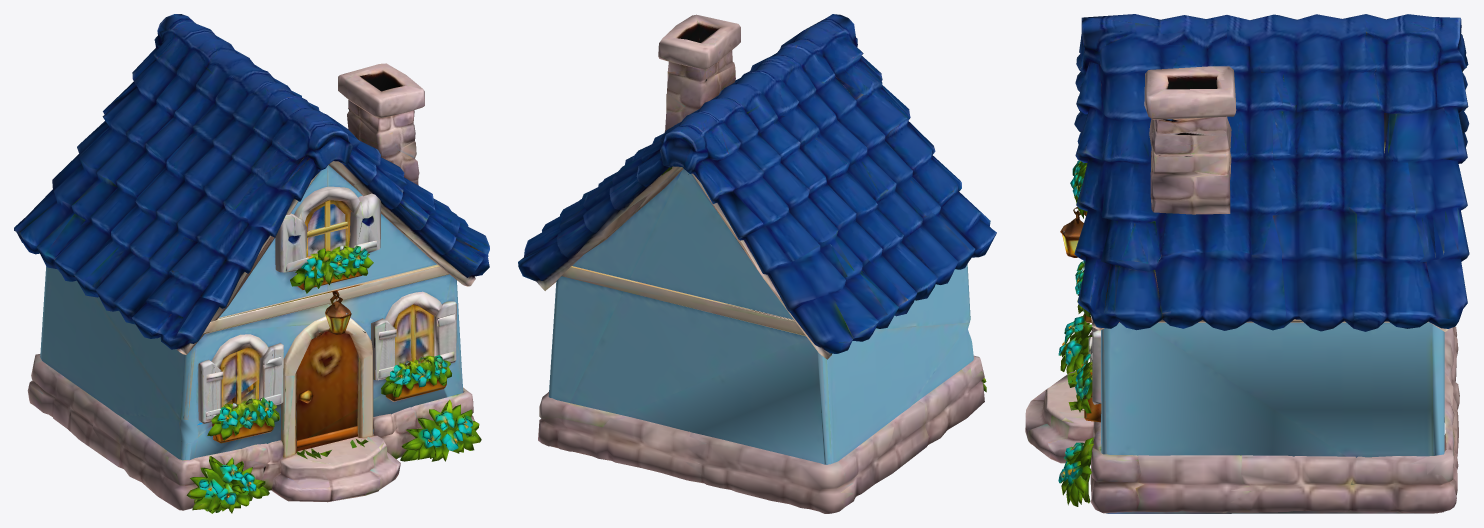
File: cottage_roof.glb
3 renders of one model, left to right at view 1: azimuth 30°, elevation 25°; view 2: azimuth 150°, elevation 25°; view 3: azimuth 270°, elevation 25°, orthographic. The views are drawn at different scales.
Visible parts, largest first — view 1: geometry_0; view 2: geometry_0; view 3: geometry_0.
Boxes of the visible parts, <box> form: geometry_0: <box>14,14,489,513</box>; geometry_0: <box>518,14,996,513</box>; geometry_0: <box>1025,14,1469,513</box>.
Bounding box in the file's own units: 0.9565 × 0.9302 × 0.8931.
1 material, 1 textured.
